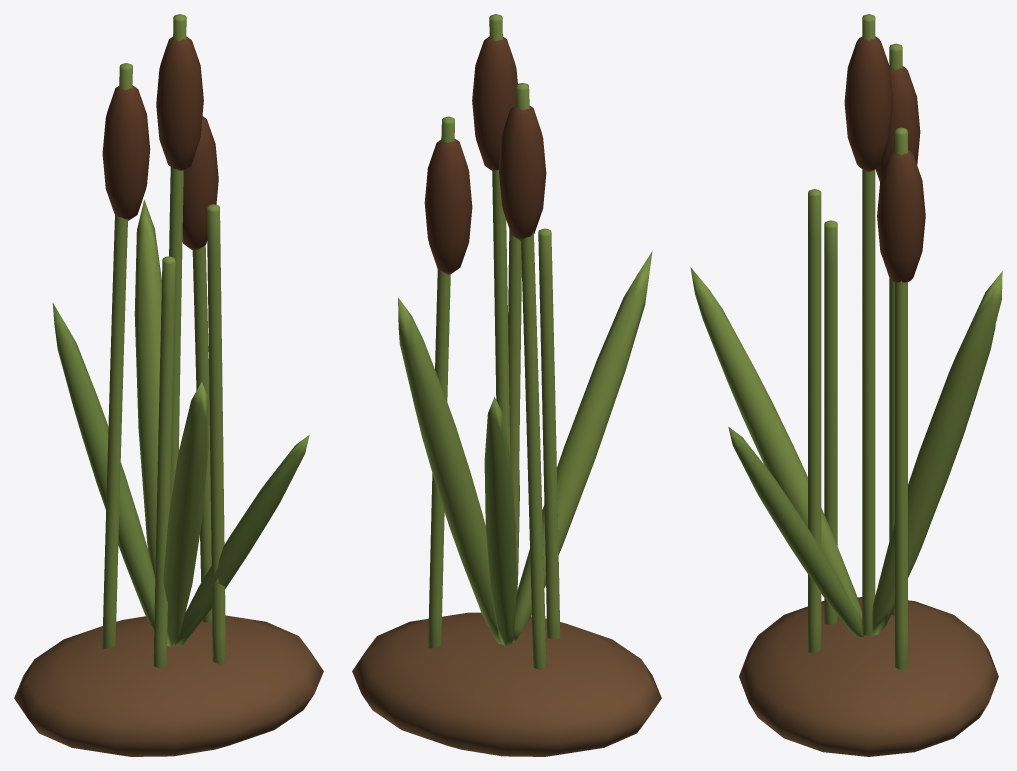
File: schilf.glb
3 renders of one model, left to right at view 1: azimuth 30°, elevation 25°; view 2: azimuth 150°, elevation 25°; view 3: azimuth 270°, elevation 25°, orthographic.
Visible parts, largest first — view 1: schilf-matt; view 2: schilf-matt; view 3: schilf-matt.
Boxes of the visible parts, left/top/right/bottom form: schilf-matt: left=14, top=14, right=323, bottom=756; schilf-matt: left=352, top=14, right=661, bottom=756; schilf-matt: left=690, top=14, right=1002, bottom=756.
Bounding box in the file's own units: 0.6 × 1.45 × 0.5764.
